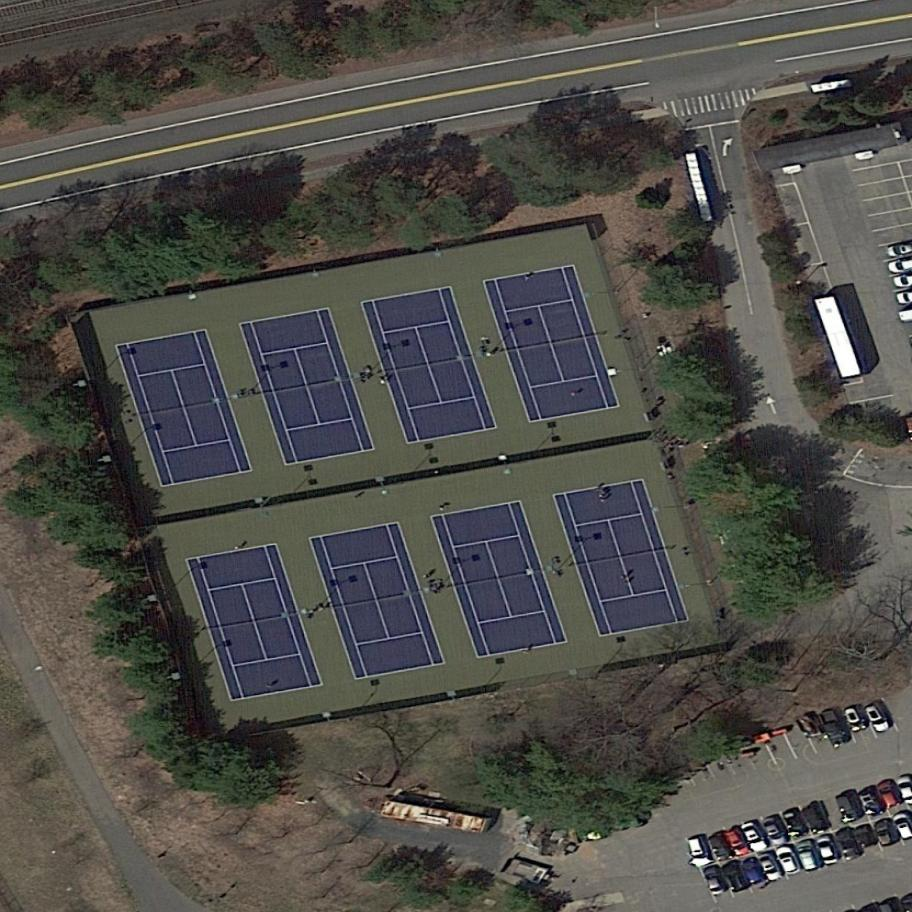small-vehicle: (817, 705, 854, 751), (758, 811, 793, 851), (779, 804, 812, 844), (834, 824, 866, 865), (862, 699, 896, 737), (870, 814, 903, 852), (800, 798, 832, 837), (814, 831, 845, 871), (755, 848, 787, 885), (833, 790, 865, 827), (848, 820, 880, 856), (722, 824, 753, 861), (874, 777, 905, 814), (774, 842, 804, 880), (795, 837, 825, 875), (795, 709, 826, 745), (686, 833, 716, 869), (705, 829, 734, 866), (856, 786, 886, 821), (741, 819, 770, 855), (702, 863, 731, 899), (720, 861, 750, 895), (841, 700, 869, 735), (740, 856, 767, 889)
